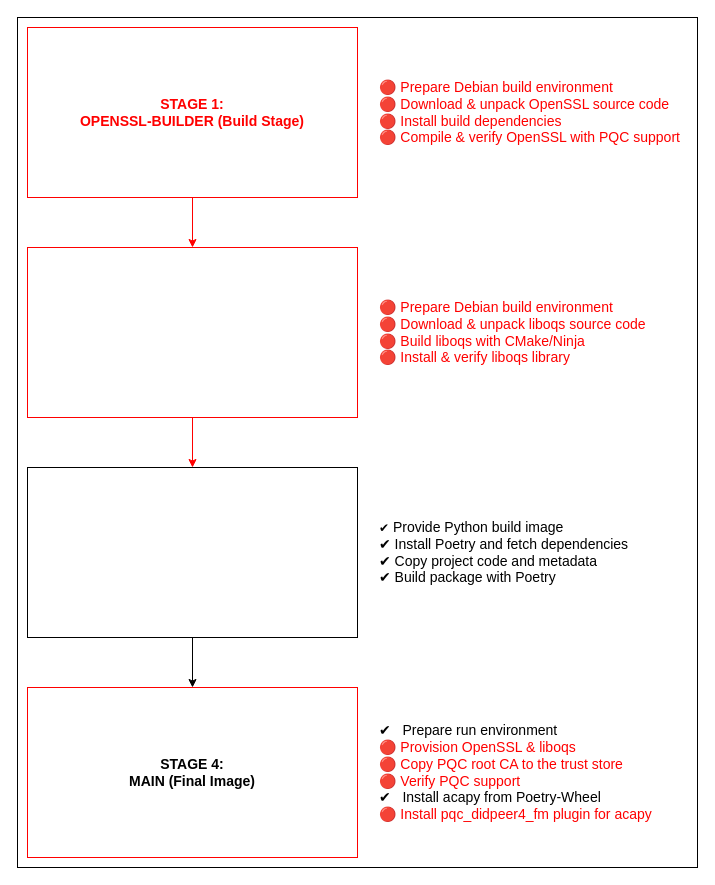
Some shapes in this 715 by 885 pixel diagram are drawn without their labels. Each missing label, with the centre of its shape:
STAGE 2: LIBOQS-BUILDER (Build Stage): (192,332)
STAGE 3: ACAPY-BUILDER (Build Stage): (192,552)
